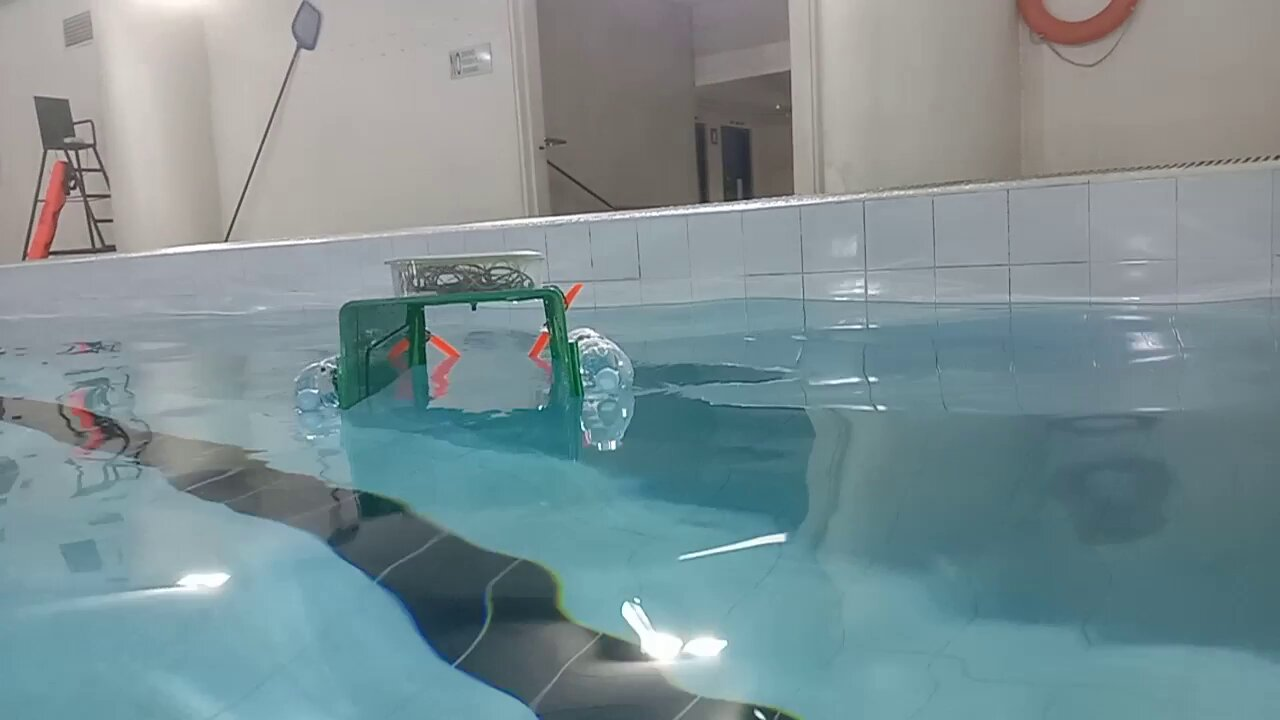drone: (292, 254, 637, 415)
